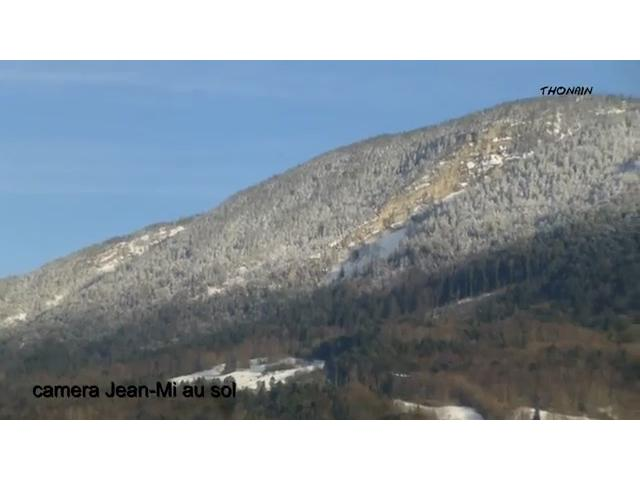Anti-Drone: (380, 368, 424, 384)
